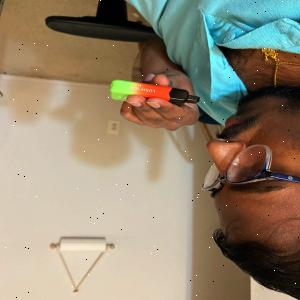Swift-E-Ciggirate: (106, 78, 201, 106)
